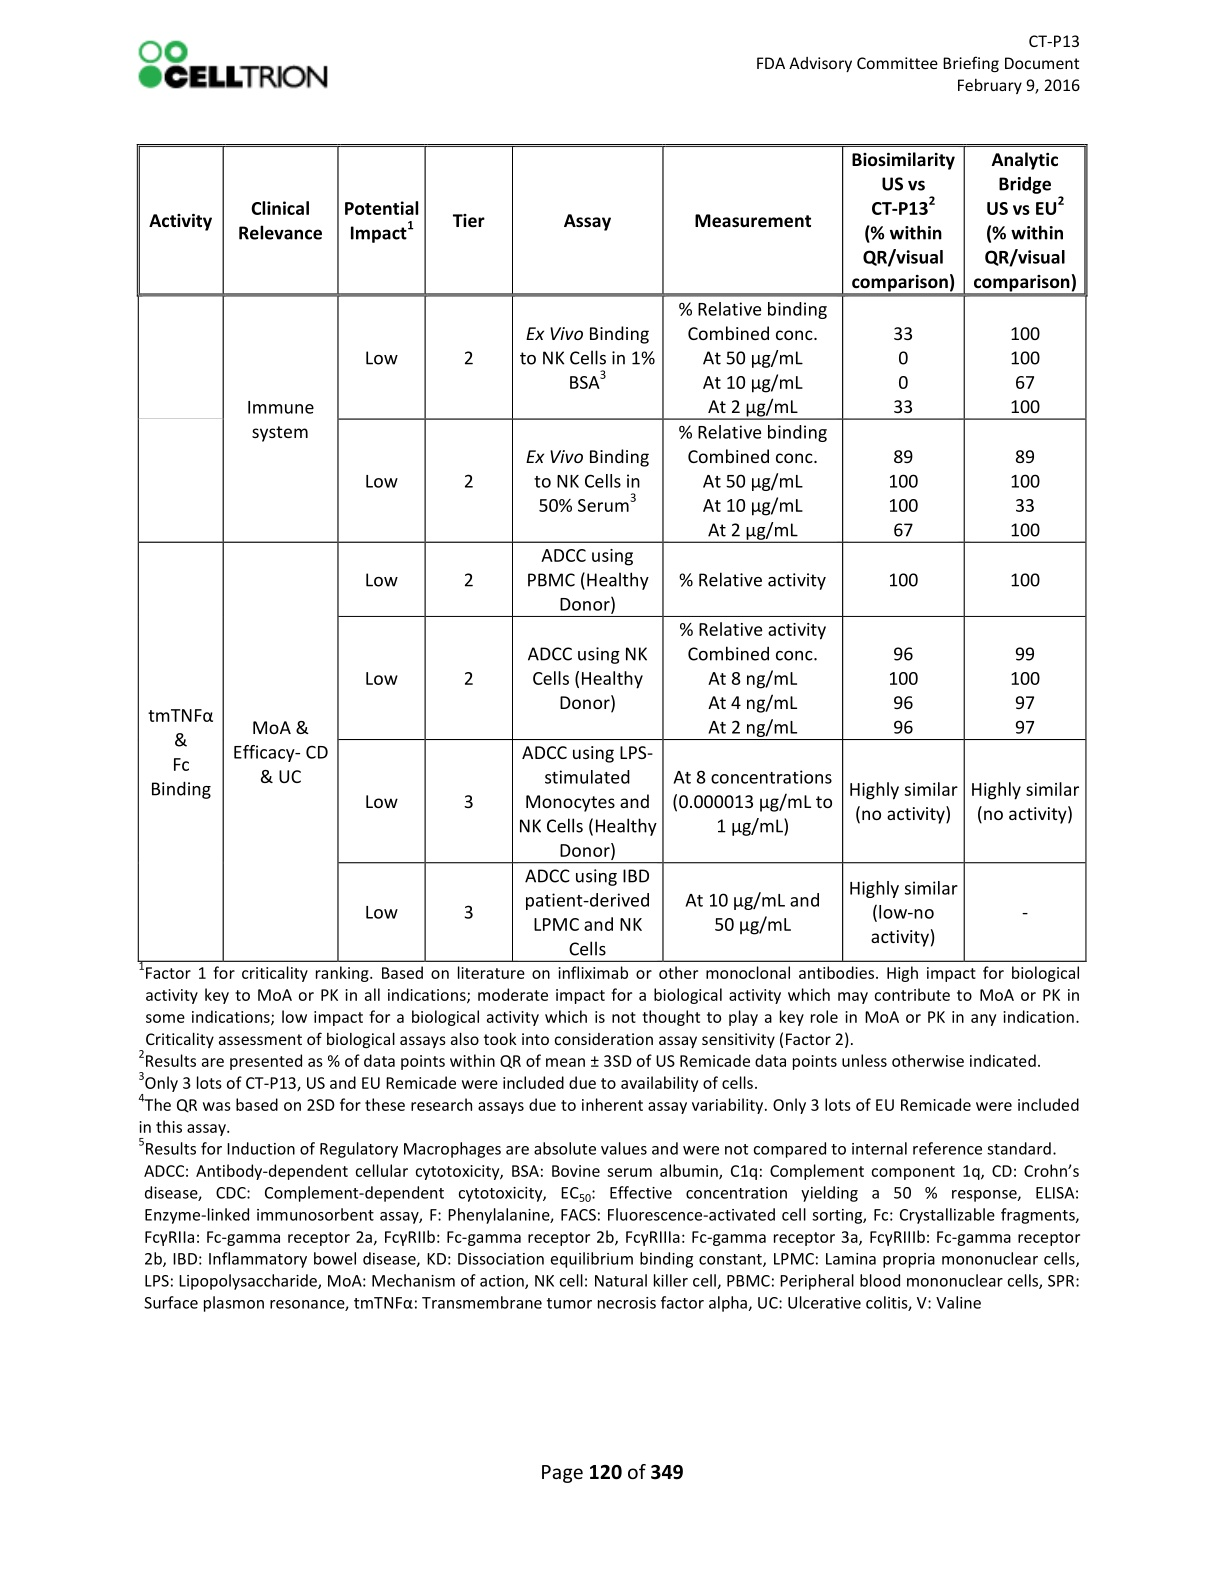merged_cells: (135, 143, 1086, 962)
